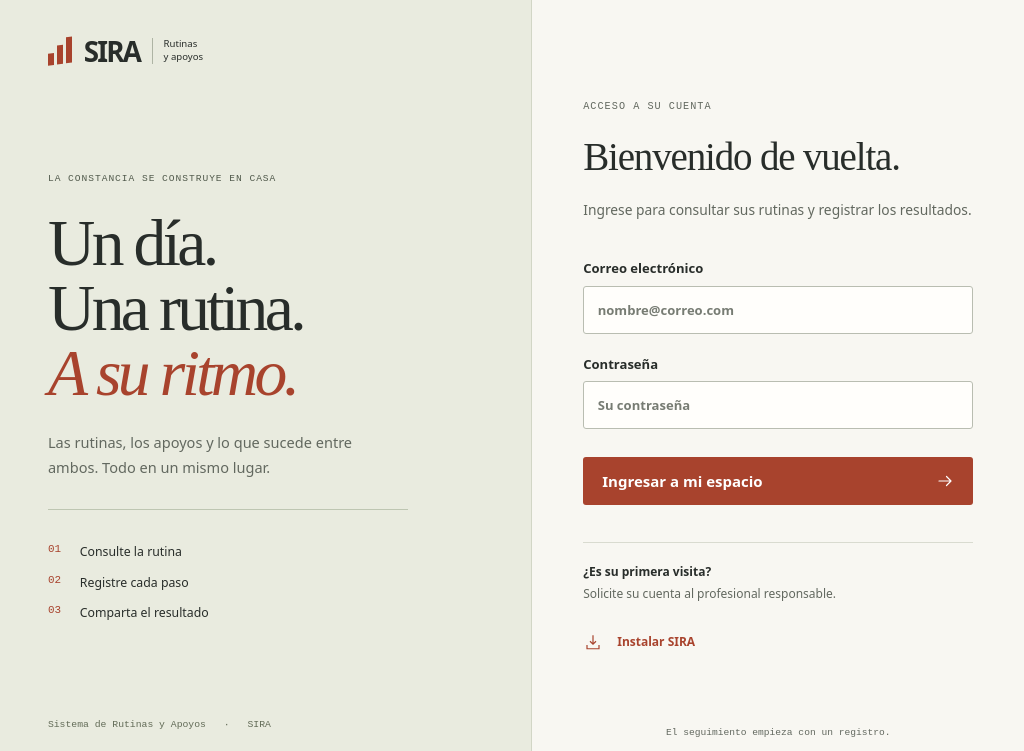
hace visible la espera del login, bloquea reenvíos y permite corregir un error
Type "laura@example.org" into the field labelled "Correo electrónico" at (778, 310), box [583,286,973,334]
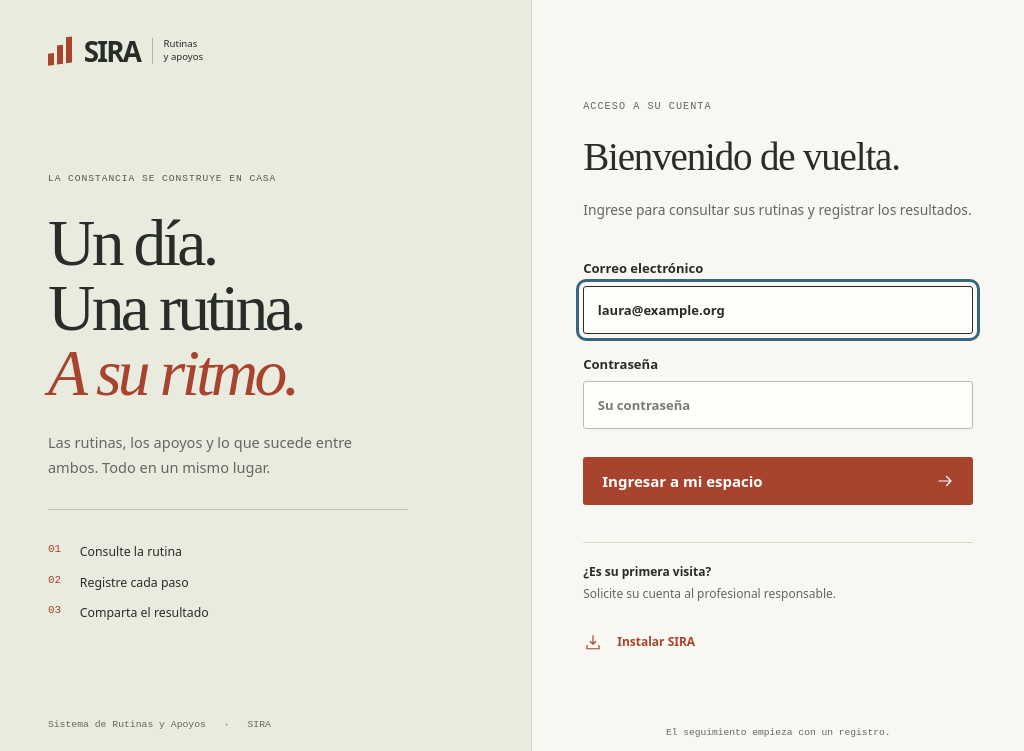
Type "PasswordPrueba2026!" into the password field labelled "Contraseña" at (778, 405), box [583,381,973,429]
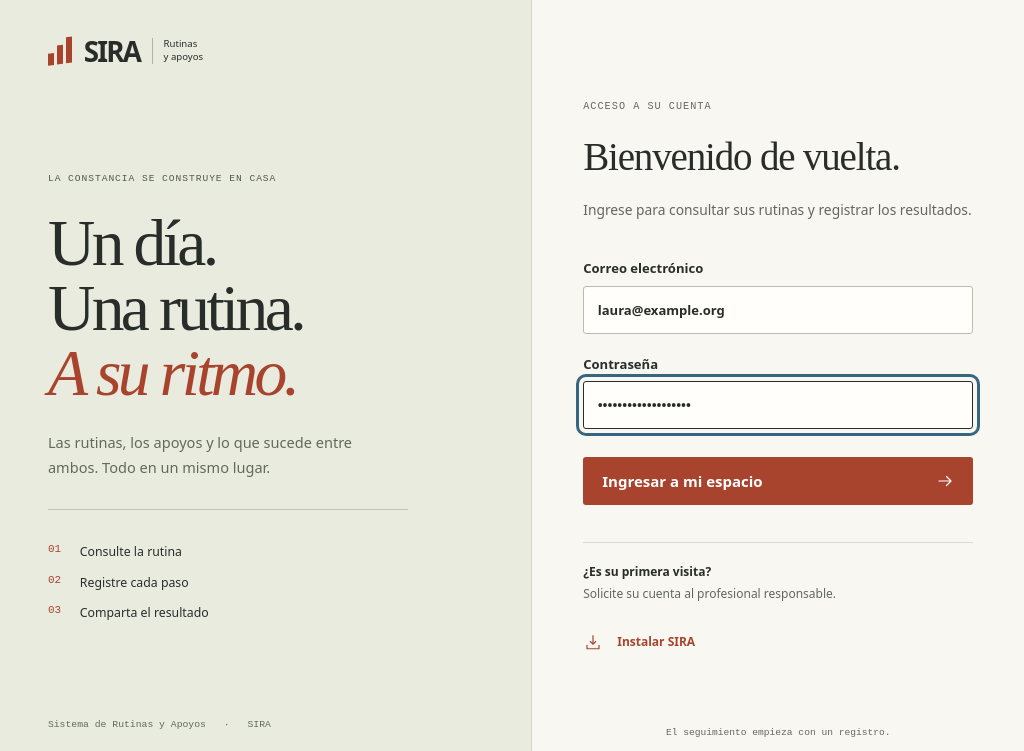
Click the button "Ingresar a mi espacio" at (682, 481), box [583,457,973,505]
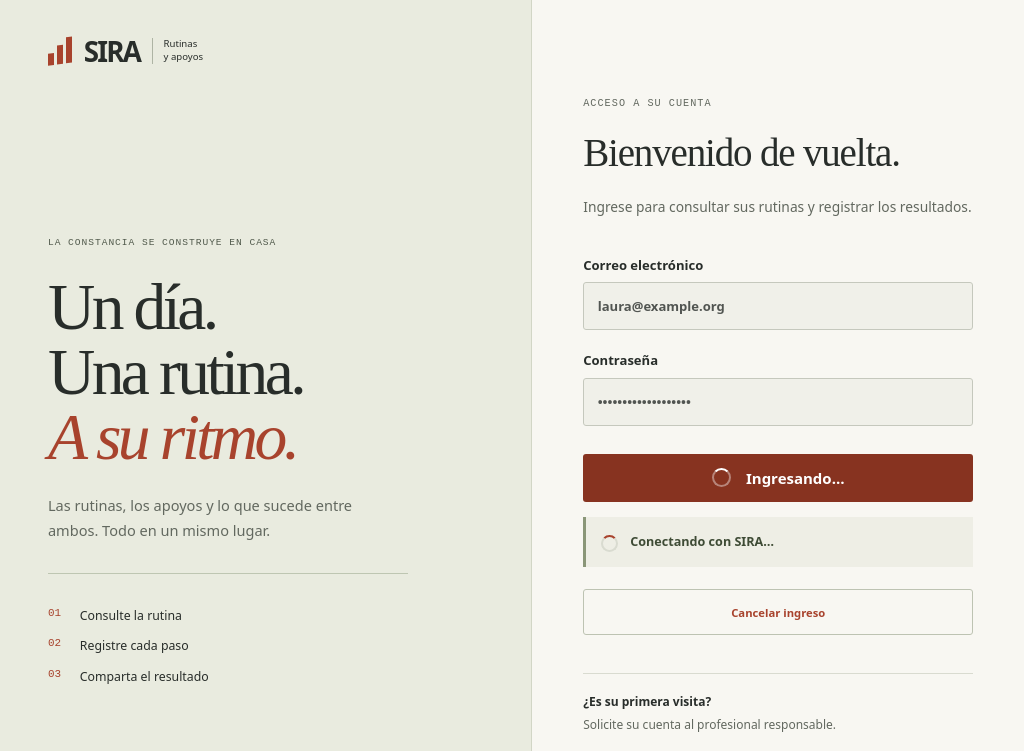
expect the message shows "Conectando con SIRA": met, box [630,533,774,550]
expect the button "Ingresando…" is disabled: met
Click the button "Ingresando…" at (778, 478), box [583,454,973,502]
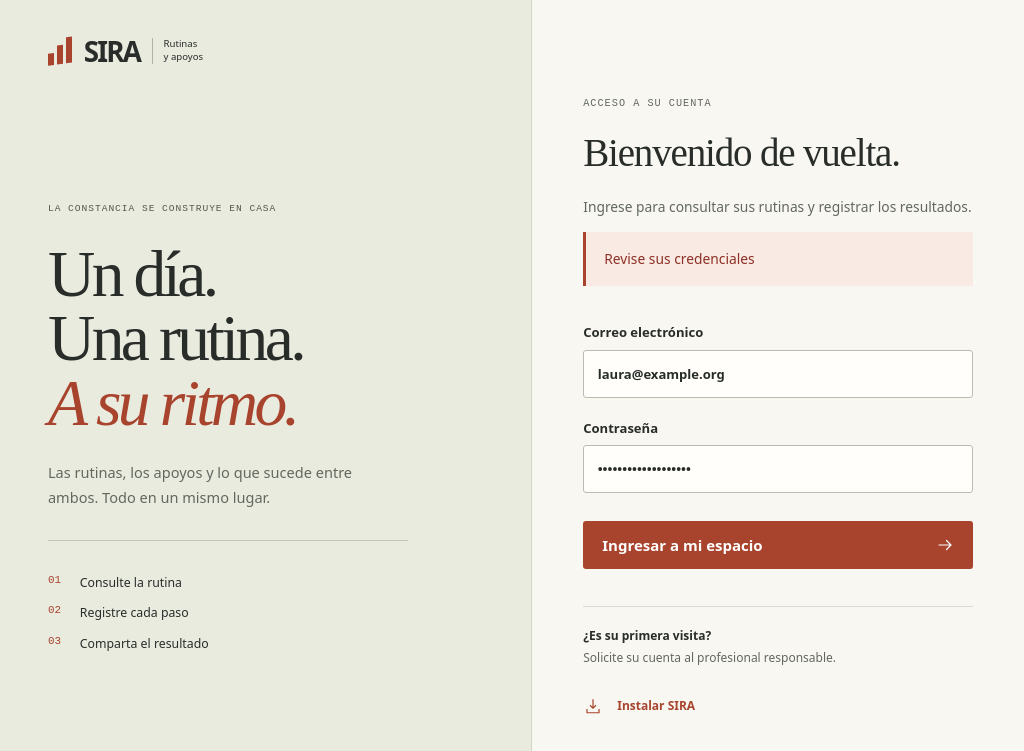
expect the message reads "Revise sus credenciales": met, box [604,249,755,268]
expect the button "Ingresar a mi espacio" is enabled: met, box [583,521,973,569]
